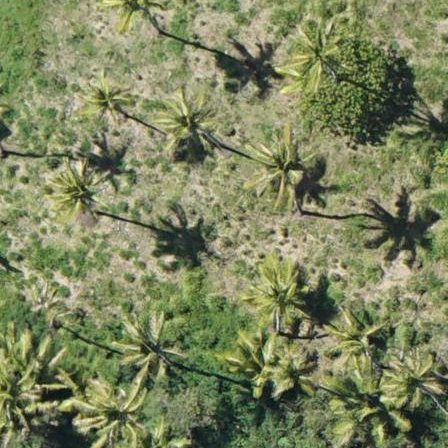palm_tree: (242, 247, 320, 330), (79, 375, 158, 448), (249, 127, 319, 203), (115, 314, 184, 388), (42, 151, 109, 222), (379, 345, 446, 416), (281, 24, 347, 96), (225, 329, 295, 395), (158, 89, 218, 153), (1, 345, 51, 421), (325, 311, 387, 372), (76, 60, 133, 122)
